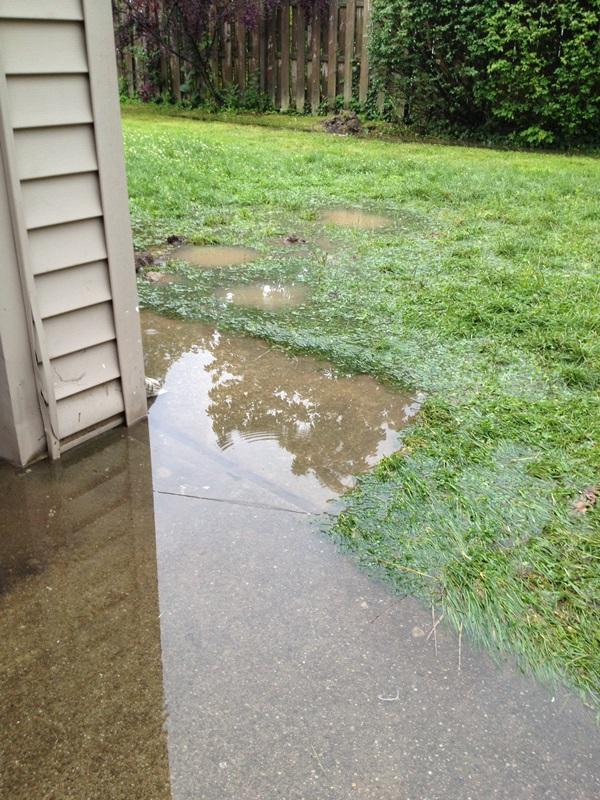water: (19, 373, 371, 800), (281, 616, 600, 796), (164, 330, 263, 402), (215, 276, 307, 317), (174, 235, 259, 273), (306, 200, 390, 237)
